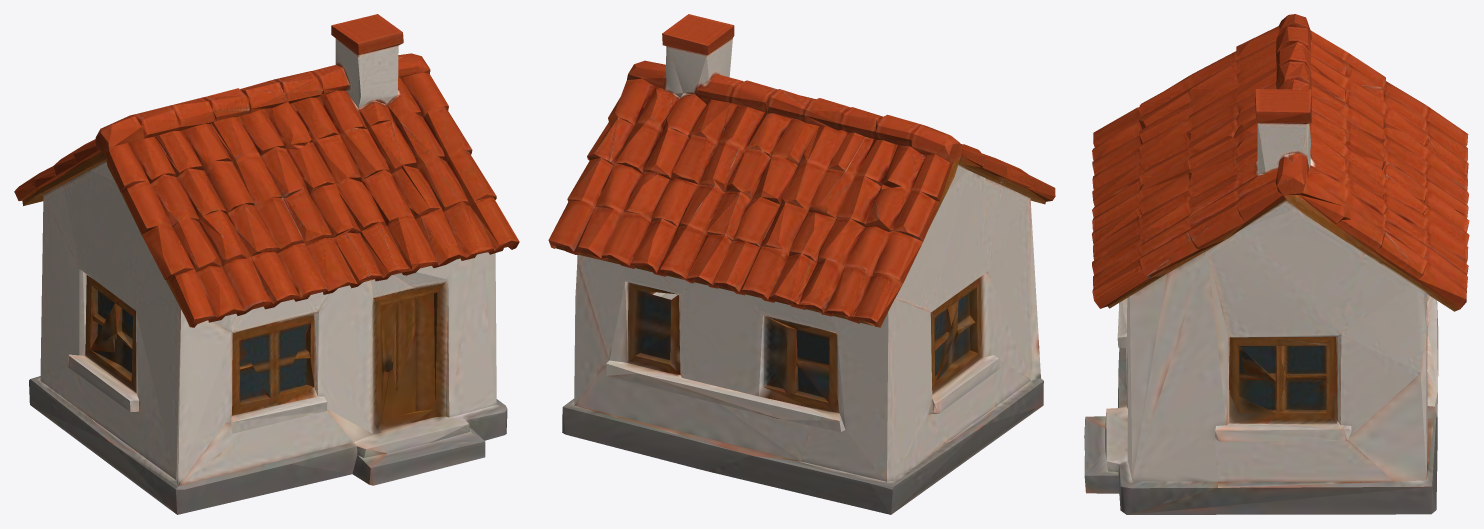
The model's file is house.glb.
3 views of the same model, side by side, from view 1: azimuth 30°, elevation 25°; view 2: azimuth 150°, elevation 25°; view 3: azimuth 270°, elevation 25° (orthographic). The views are drawn at different scales.
Visible parts, largest first — view 1: output_unwrapped; view 2: output_unwrapped; view 3: output_unwrapped.
Part boxes in pixels (x1,y1,x2,y2): output_unwrapped: (14,14,519,514); output_unwrapped: (548,14,1055,514); output_unwrapped: (1084,14,1469,514).
Bounding box in the file's own units: 1.81 × 1.9 × 1.73.
1 material, 1 textured.
